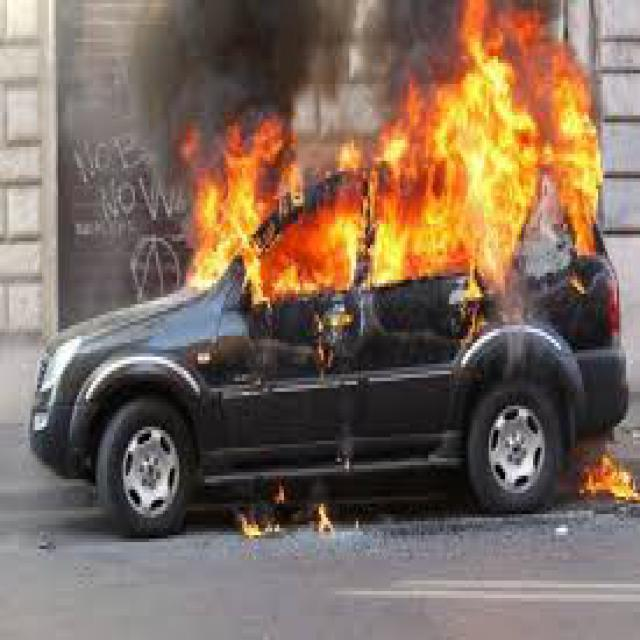Fire: (126, 0, 640, 328), (229, 460, 338, 568), (569, 409, 640, 540)
Smoke: (113, 0, 350, 110)
